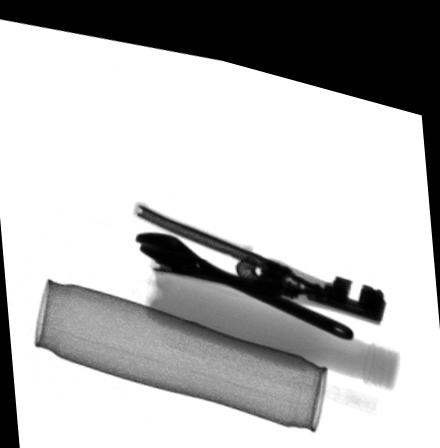Pliers: (125, 190, 388, 304)
Wrench: (132, 221, 353, 320)
